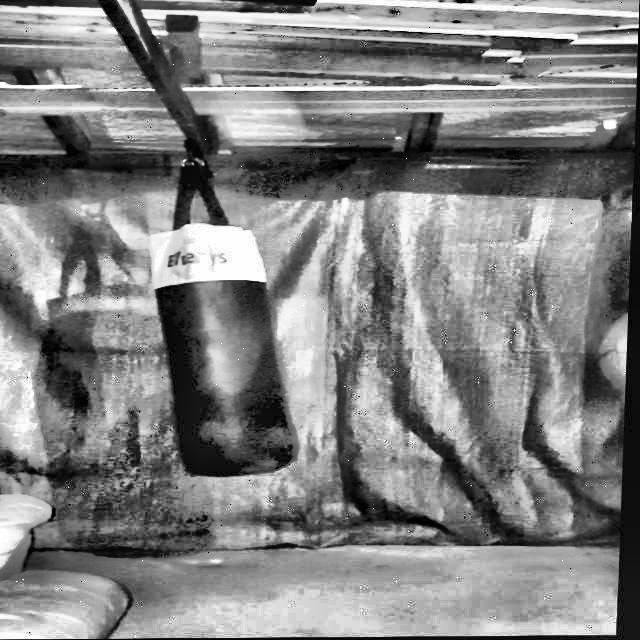boxing-bag: (146, 140, 318, 485)
